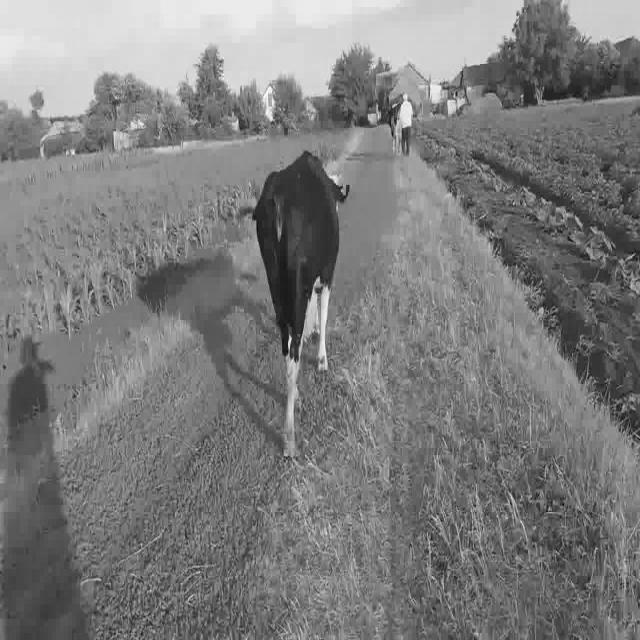cow: (254, 151, 349, 457)
